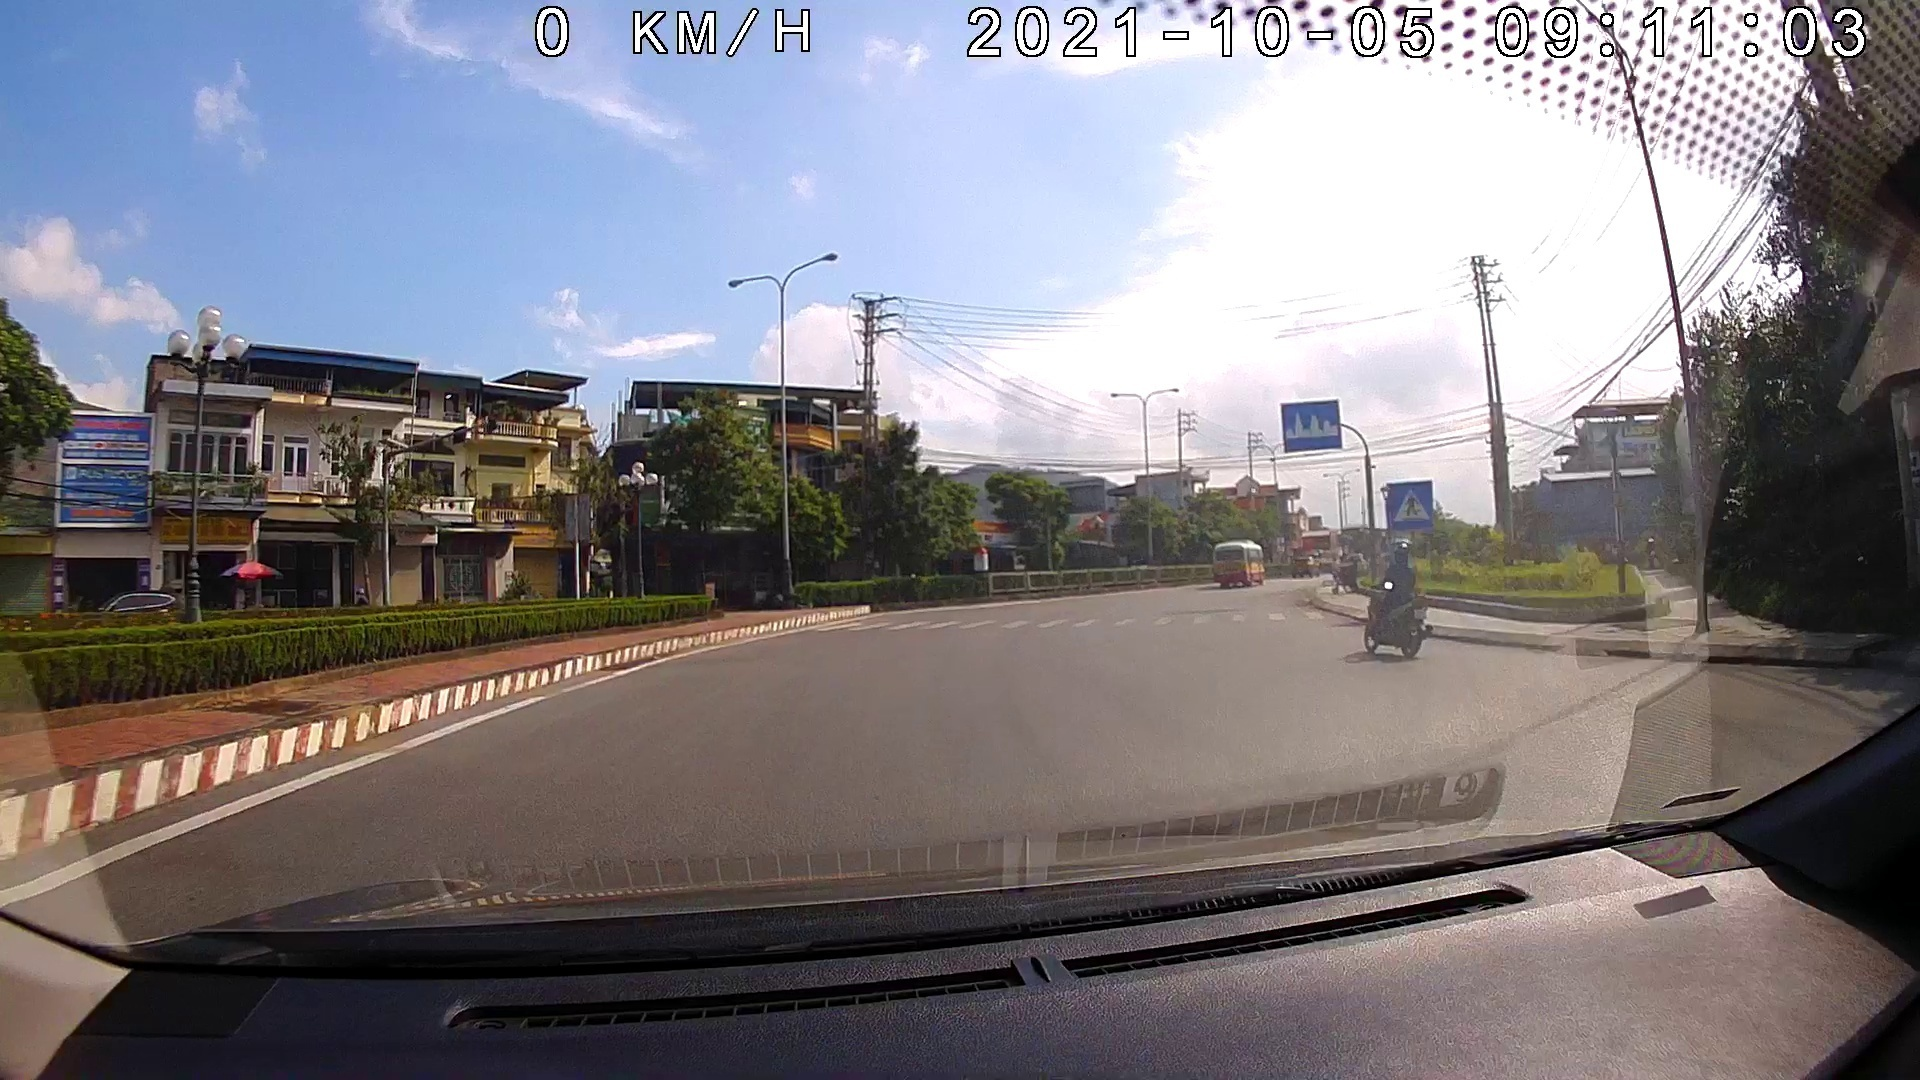Bien khac: (1279, 397, 1342, 454)
Nguoi di bo: (1383, 479, 1433, 530)
